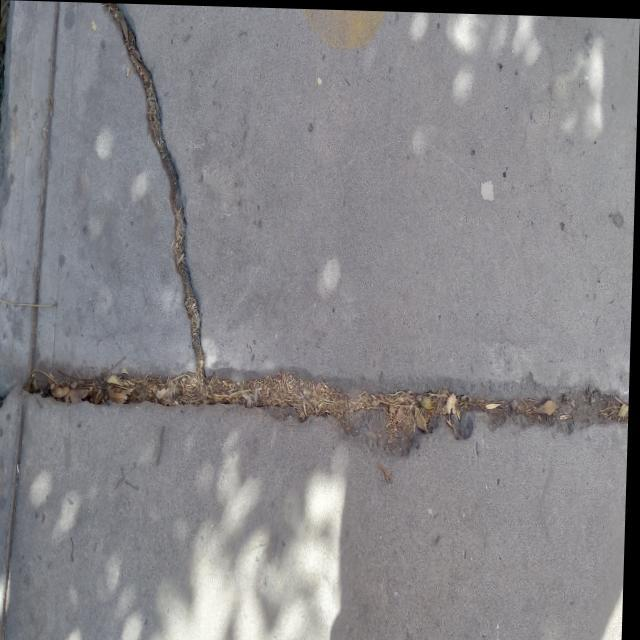hole: (0, 328, 632, 476)
